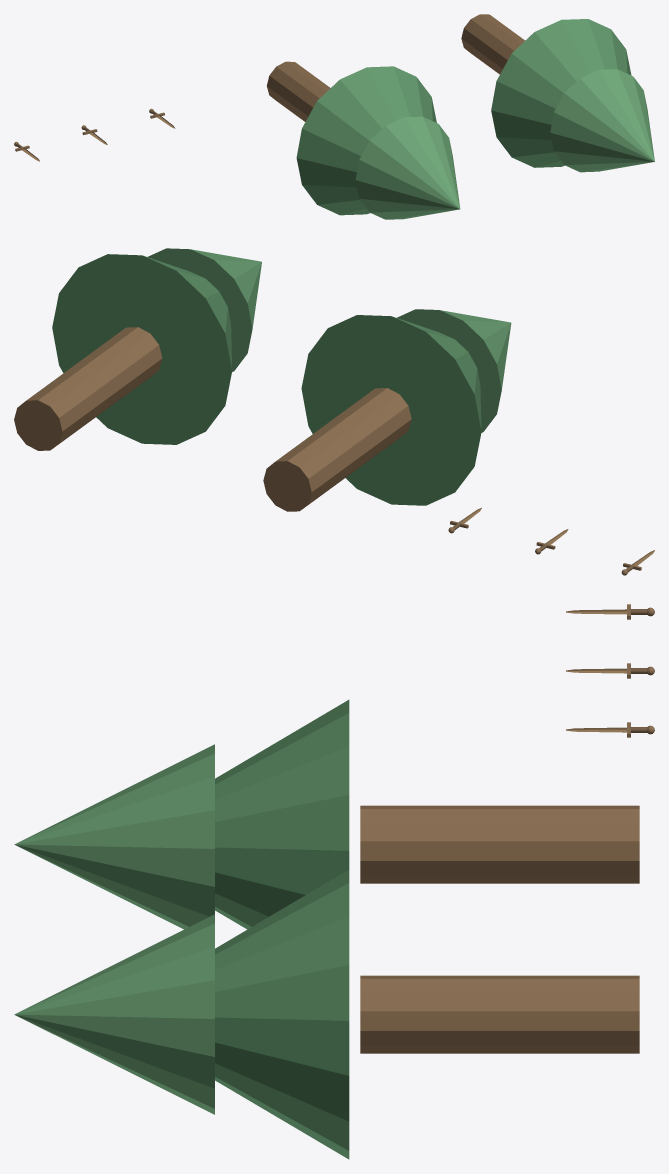
The model's file is 3_tiny_wooden_blades_and_2_giant_oak_trees.glb.
The picture shows the model from 3 angles, top to bottom: view 1: azimuth 30°, elevation 25°; view 2: azimuth 150°, elevation 25°; view 3: azimuth 270°, elevation 25°; orthographic projection. The views are drawn at different scales.
Visible parts, largest first — view 1: tree_4_1, tree_3_1, tree_3_2, tree_4_2, tree_4_0, tree_3_0; view 2: tree_4_1, tree_3_1, tree_3_0, tree_4_0, tree_3_2, tree_4_2; view 3: tree_4_1, tree_3_1, tree_3_0, tree_4_0, tree_4_2, tree_3_2.
Part boxes in pixels (bbox=[...]): tree_4_1: bbox=[491, 19, 631, 167]; tree_3_1: bbox=[296, 66, 436, 215]; tree_3_2: bbox=[355, 116, 460, 219]; tree_4_2: bbox=[550, 69, 654, 172]; tree_4_0: bbox=[461, 14, 524, 74]; tree_3_0: bbox=[267, 61, 330, 121]; tree_4_1: bbox=[52, 254, 232, 444]; tree_3_1: bbox=[301, 315, 481, 505]; tree_3_0: bbox=[263, 388, 411, 511]; tree_4_0: bbox=[14, 327, 162, 450]; tree_3_2: bbox=[397, 309, 511, 432]; tree_4_2: bbox=[148, 248, 261, 371]; tree_4_1: bbox=[215, 870, 349, 1159]; tree_3_1: bbox=[215, 699, 349, 929]; tree_3_0: bbox=[360, 805, 639, 883]; tree_4_0: bbox=[360, 975, 639, 1053]; tree_4_2: bbox=[14, 914, 214, 1114]; tree_3_2: bbox=[14, 744, 214, 929].
Bounding box in the file's own units: 19.9 × 5.2 × 11.47.
